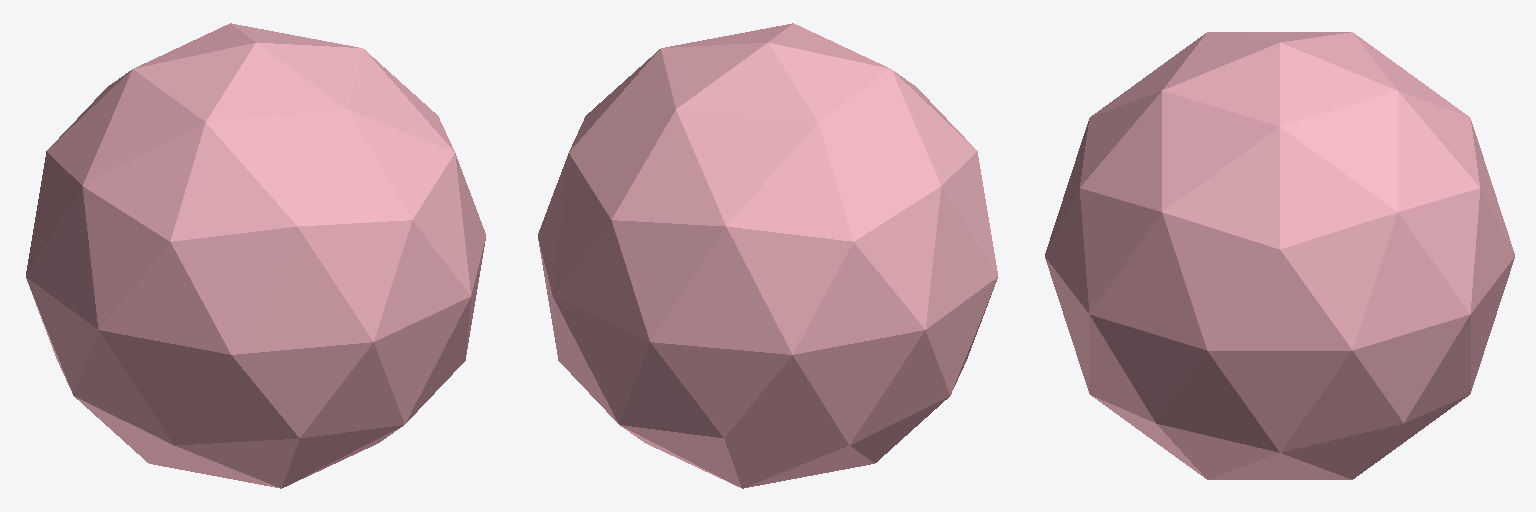
3 views of the same model, side by side, from view 1: azimuth 30°, elevation 25°; view 2: azimuth 150°, elevation 25°; view 3: azimuth 270°, elevation 25° (orthographic).
Visible parts, largest first — view 1: ICO球; view 2: ICO球; view 3: ICO球.
Boxes of the visible parts, x1=… form: ICO球: x1=26, y1=23, x2=485, y2=488; ICO球: x1=538, y1=23, x2=997, y2=488; ICO球: x1=1045, y1=32, x2=1514, y2=479.
Size of the model in its own units: 2.26 by 2.38 by 2.38.
Materials: 1 (1 with a texture image).